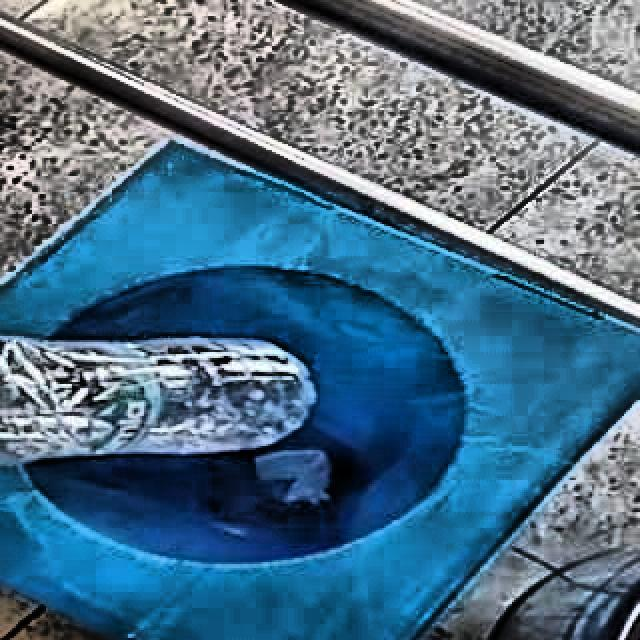plastic: (0, 340, 317, 468)
